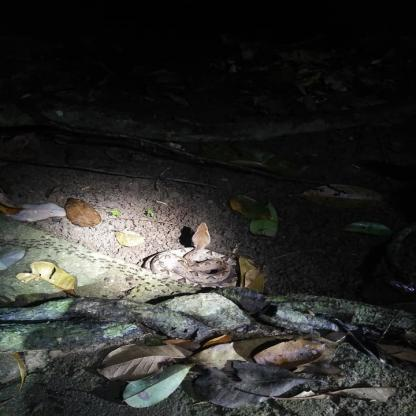Snake: (141, 223, 240, 280)
